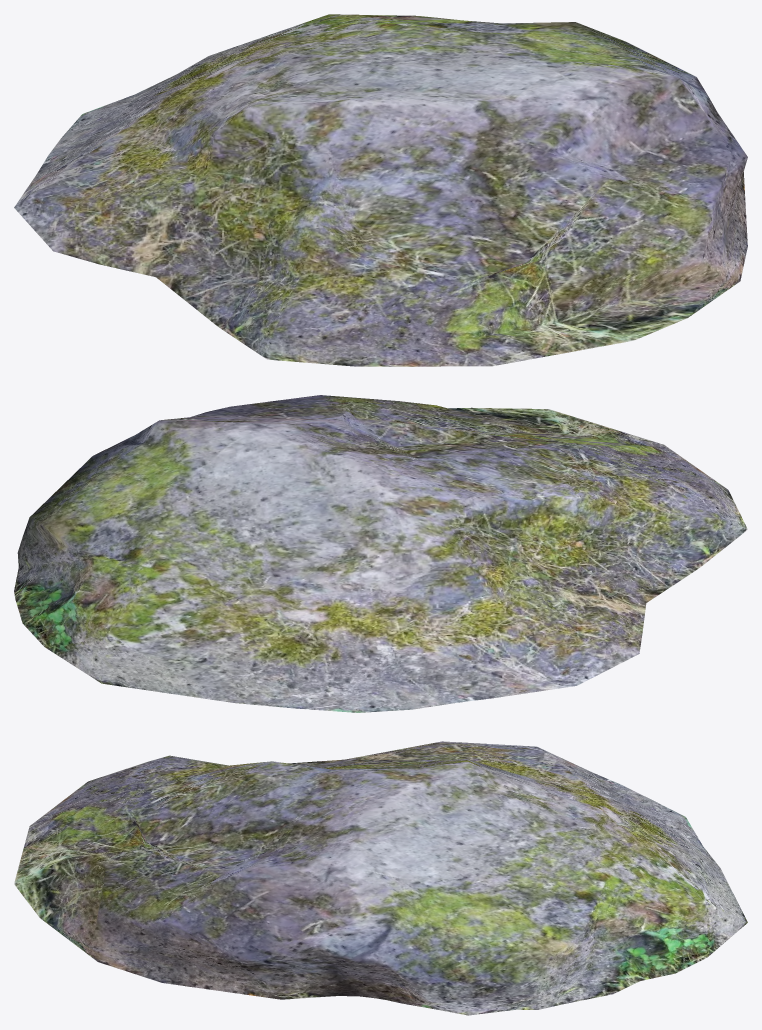
File: Mossy_Slab_1.glb
3 views of the same model, one above another, from view 1: azimuth 30°, elevation 25°; view 2: azimuth 150°, elevation 25°; view 3: azimuth 270°, elevation 25° (orthographic). The views are drawn at different scales.
Parts seen in each view (by area): view 1: Mossy_Slab_1; view 2: Mossy_Slab_1; view 3: Mossy_Slab_1.
Part boxes in pixels (x1,y1,x2,y2): Mossy_Slab_1: (14,14,747,366); Mossy_Slab_1: (14,395,747,712); Mossy_Slab_1: (14,741,747,1015).
Bounding box in the file's own units: 1.06 × 0.16 × 1.19.
1 material, 1 textured.
